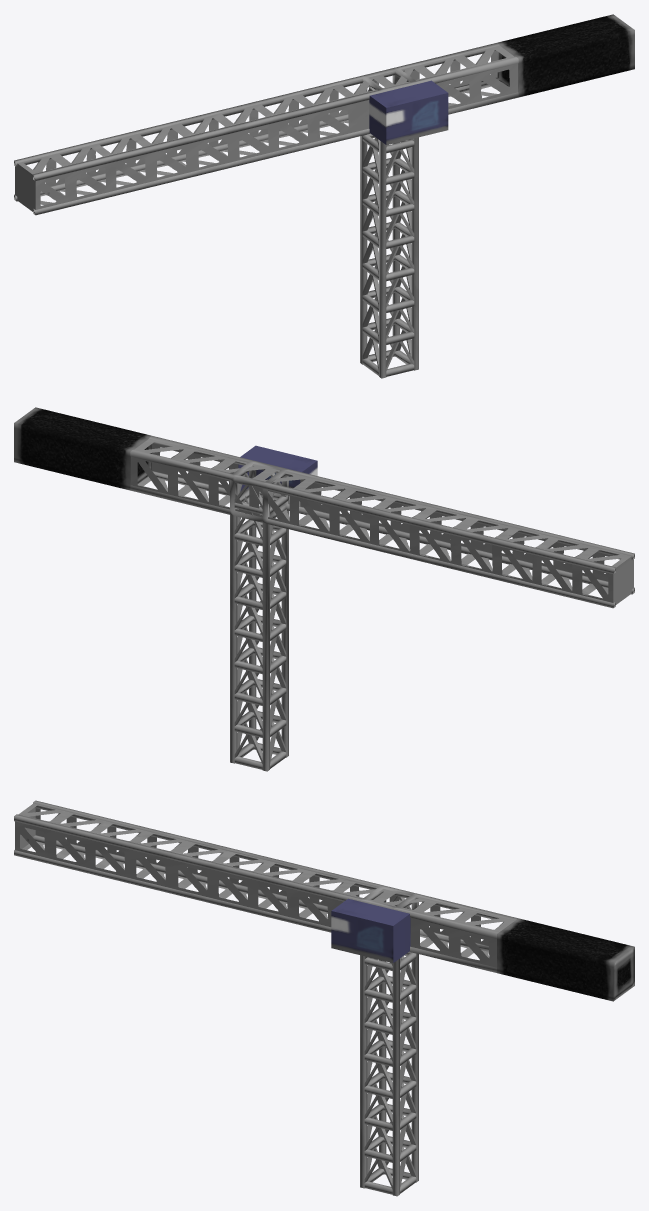
File: Crane_fbx.fbx
3 renders of one model, top to bottom at view 1: azimuth 30°, elevation 25°; view 2: azimuth 150°, elevation 25°; view 3: azimuth 330°, elevation 25°, orthographic.
Parts seen in each view (by area): view 1: Crane_mesh; view 2: Crane_mesh; view 3: Crane_mesh.
Boxes of the visible parts, <box> form: Crane_mesh: <box>14,14,634,378</box>; Crane_mesh: <box>14,407,634,771</box>; Crane_mesh: <box>14,800,634,1196</box>.
Size of the model in its own units: 16.05 by 7.34 by 1.78.
